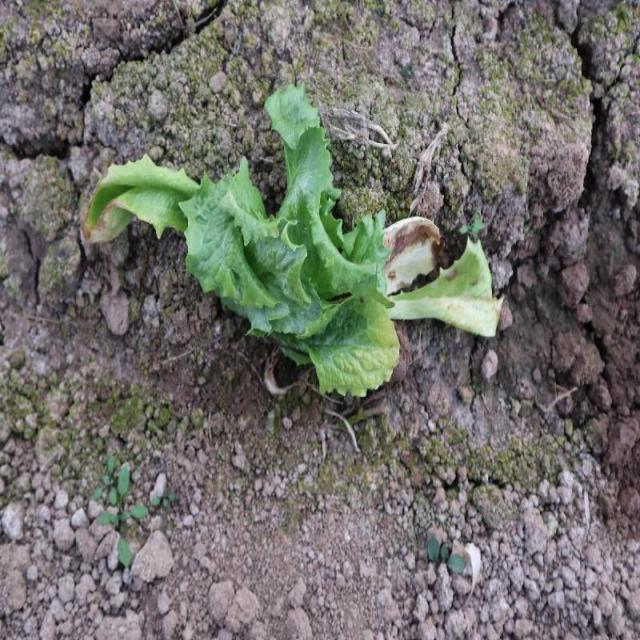crop: (84, 80, 506, 400)
